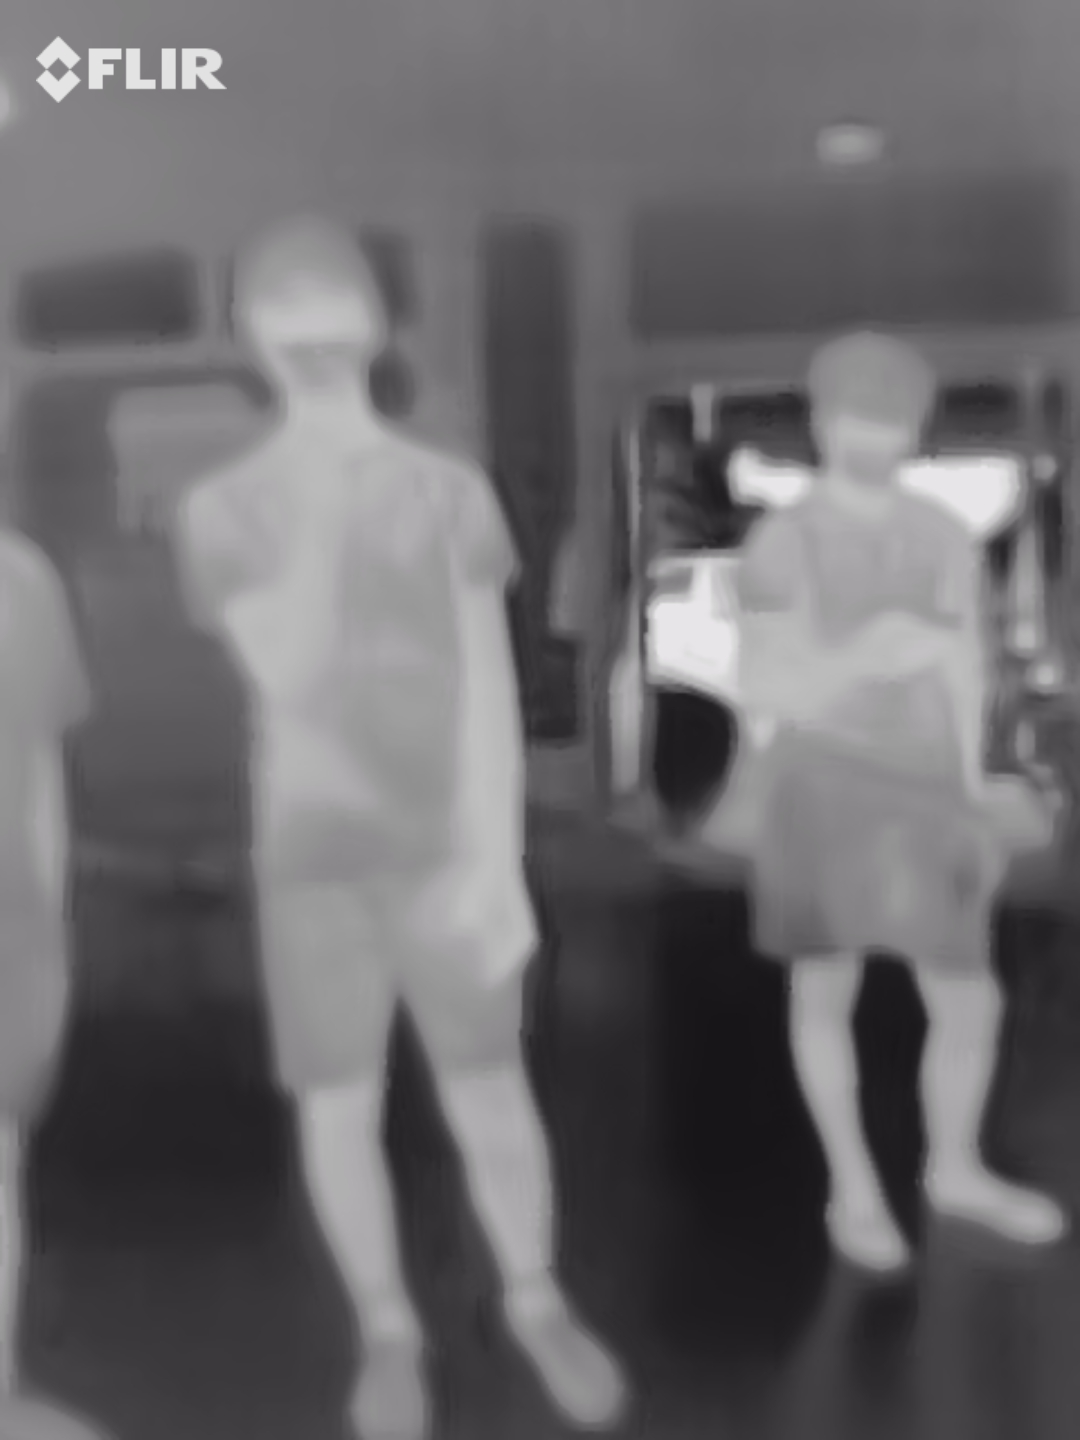head: (230, 213, 389, 415), (807, 337, 929, 497)
